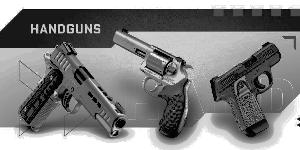handgun: (22, 42, 134, 138), (104, 24, 198, 134), (211, 43, 285, 139)
